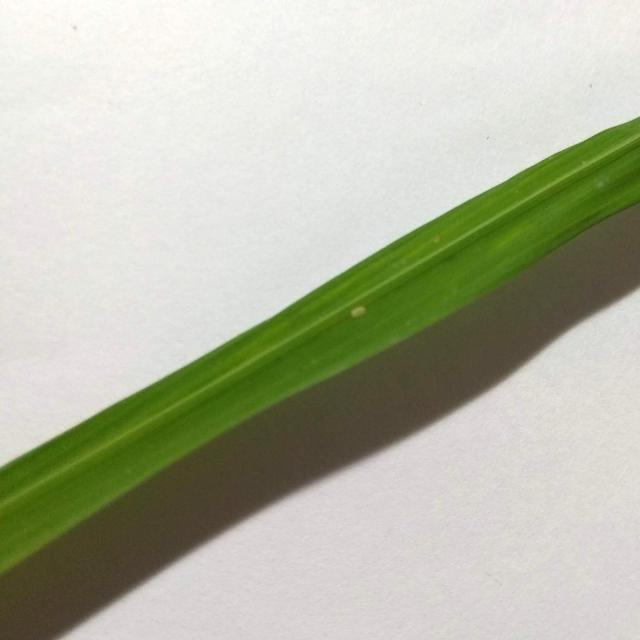healthy: (0, 115, 640, 588)
